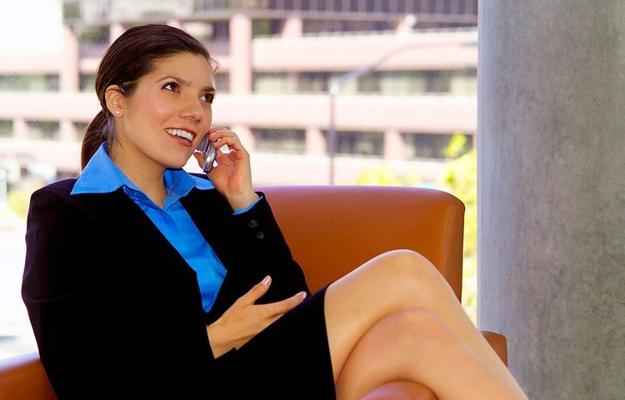person: (20, 23, 530, 400)
